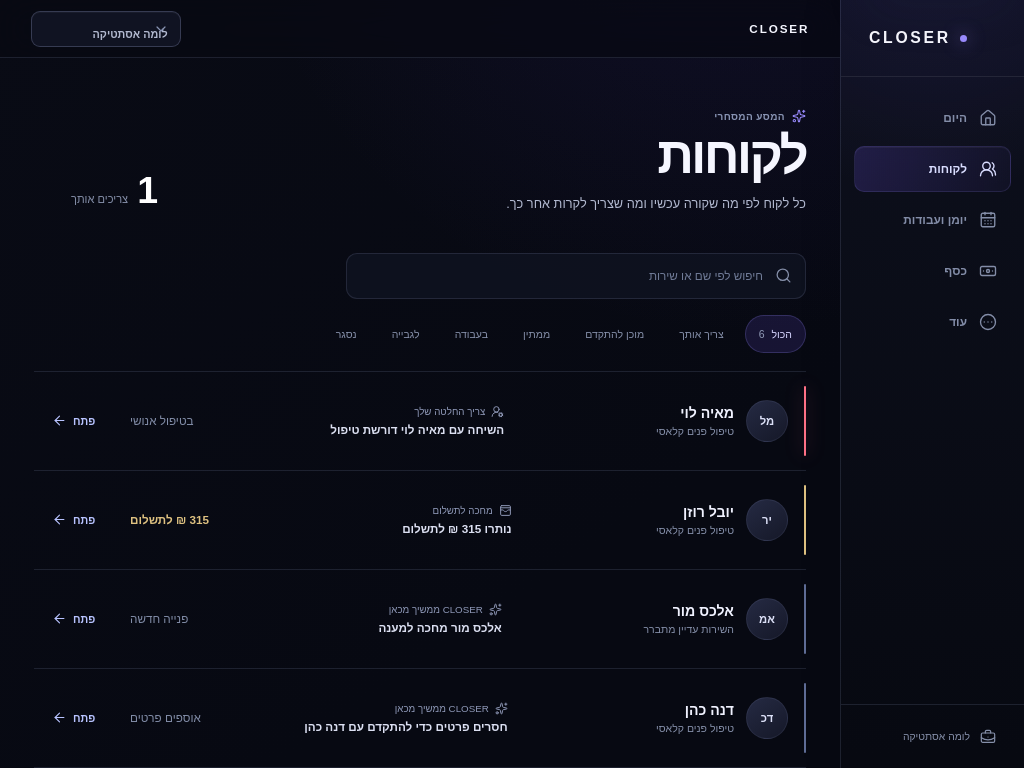
Test: production product experience › moves from Customers to a Human Takeover workspace and its commercial conversation
Click the link with aria-label "פתח את מאיה לוי".
click(74, 421)  # box [52, 413, 95, 428]
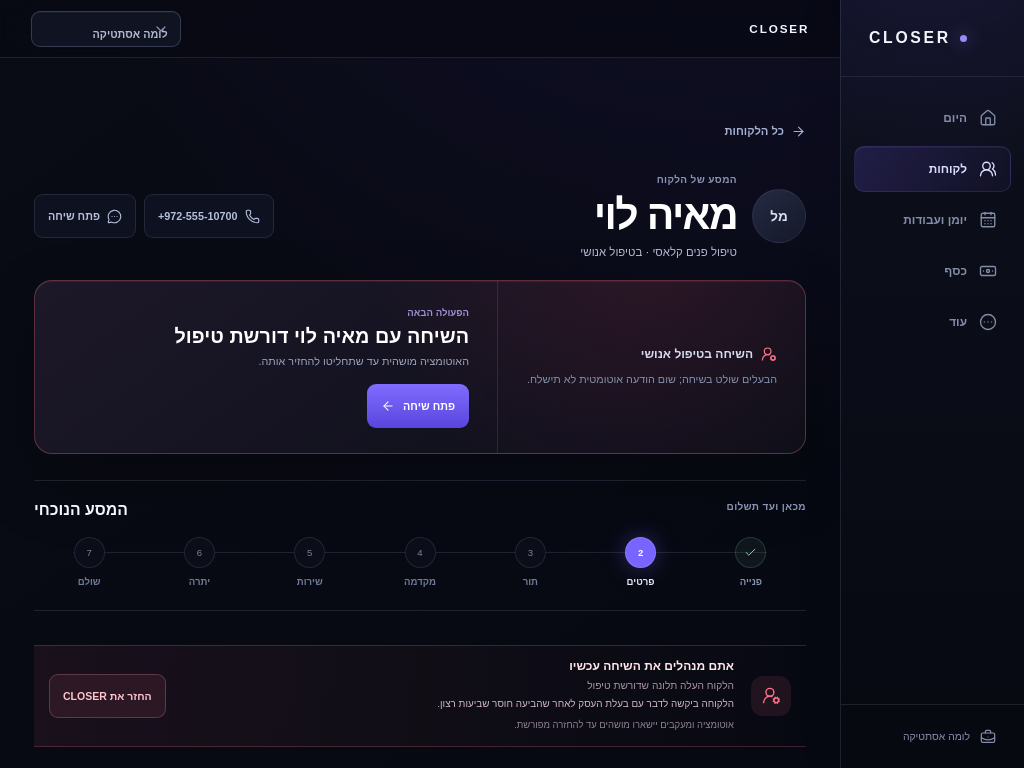
Expected: the link "לקוחות" is shown, [854, 146, 1011, 192]
Now the heading "מאיה לוי" is shown, box [580, 192, 737, 239]
Now the element named "טיפול אנושי פעיל" is shown, box [34, 645, 806, 746]
Click the 1st link "פתח שיחה".
click(85, 216)  # box [34, 194, 136, 238]
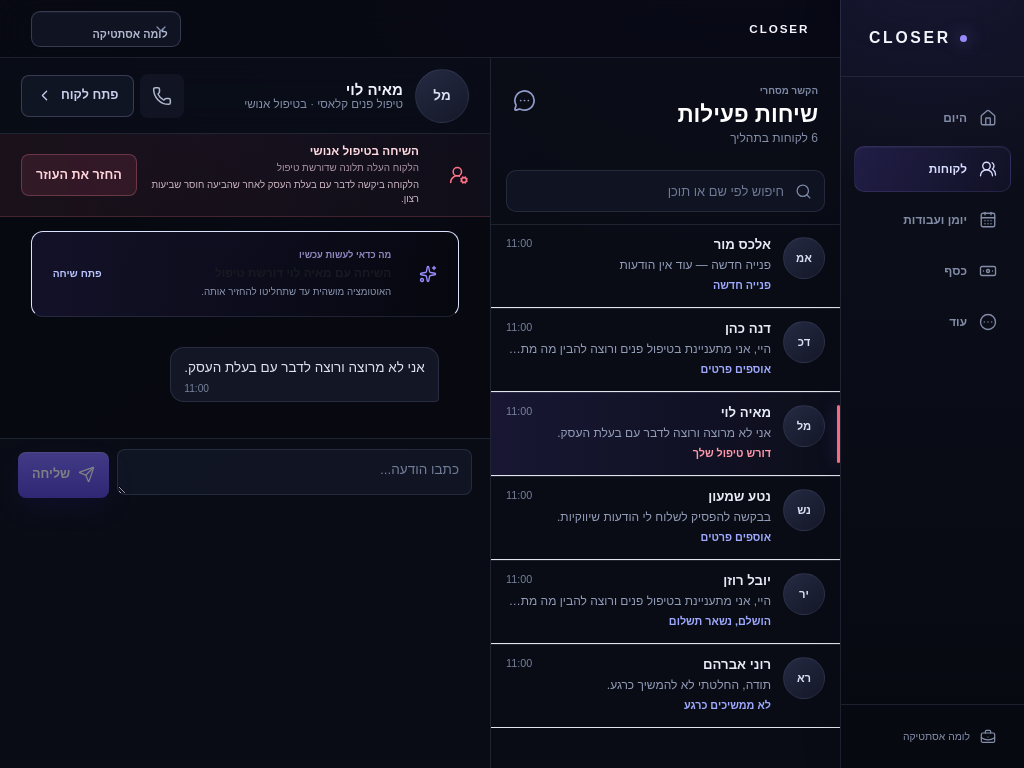
Now the heading "מאיה לוי" is shown, box [346, 81, 403, 98]
Now the element named "שיחה פעילה" is shown, box [0, 58, 490, 767]
